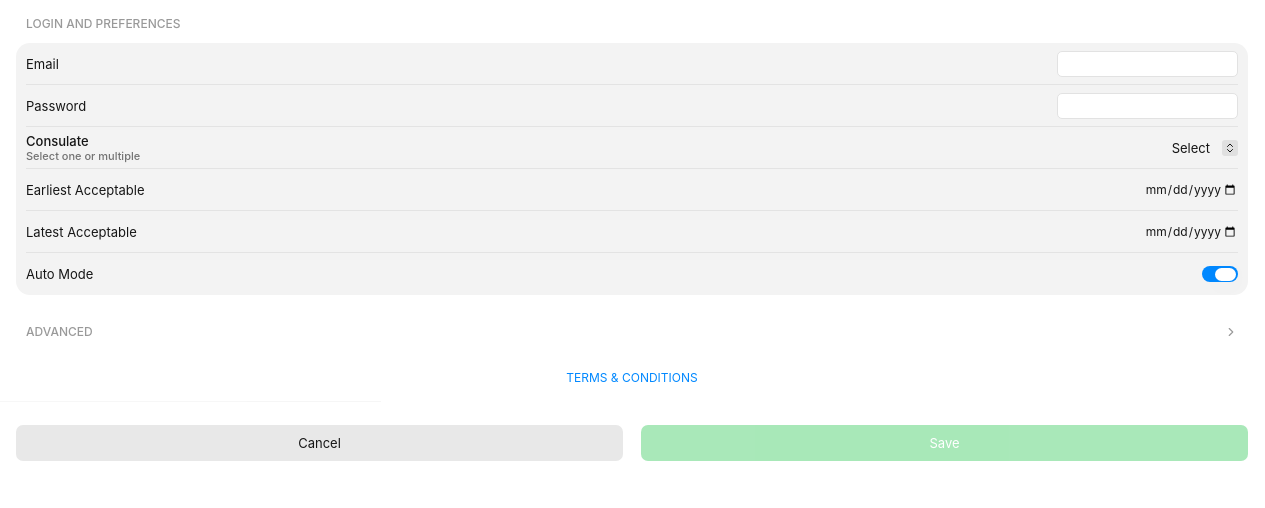
Test: Settings validation timing › only warns about the completed Password field and hides its warning on refocus
Step 1. Click the password field labelled "Password" → click(1148, 106), box [1057, 92, 1238, 118]
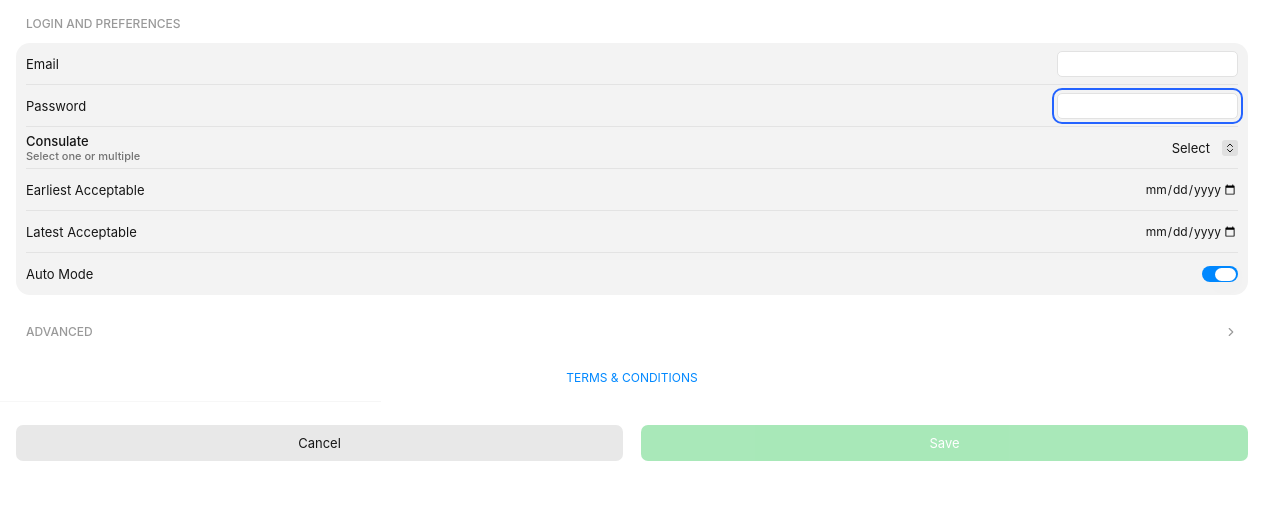
Step 2. Click the heading "Login and preferences" → click(103, 24), box [26, 16, 180, 31]
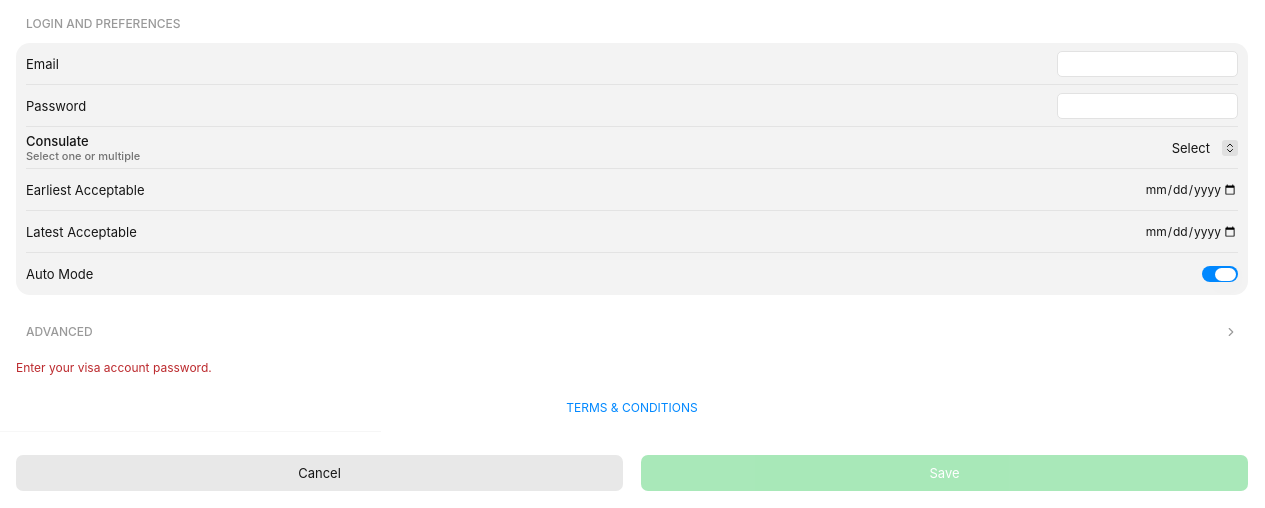
expect the message reads "Enter your visa account password.": met, box [16, 360, 212, 375]
Step 3. Click the password field labelled "Password" → click(1148, 106), box [1057, 92, 1238, 118]
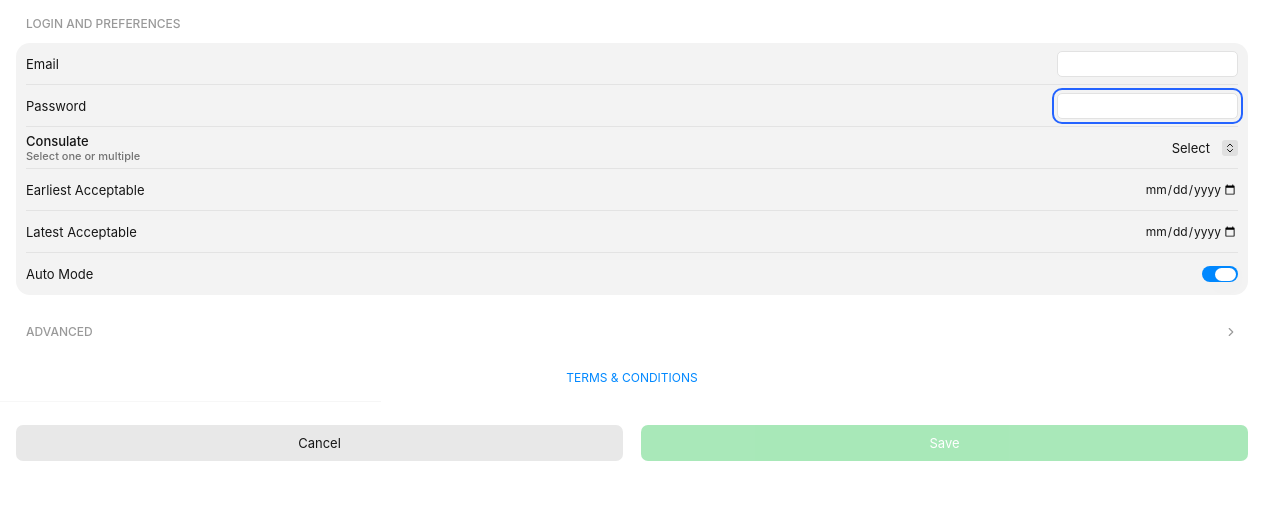
expect the message "Enter your visa account password." is gone: met
